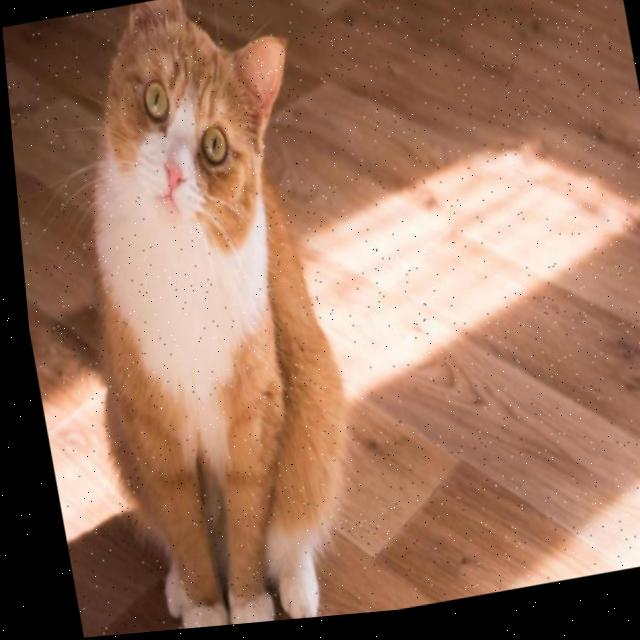Cats: (87, 0, 341, 631)
